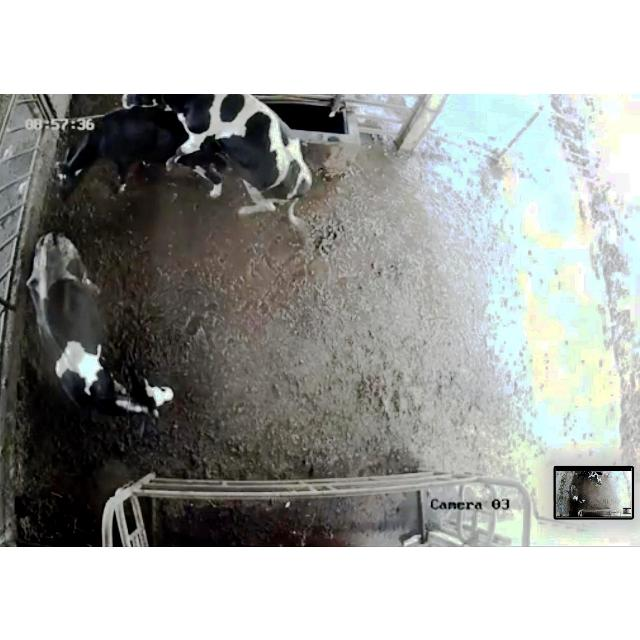ride: (120, 92, 322, 232)
